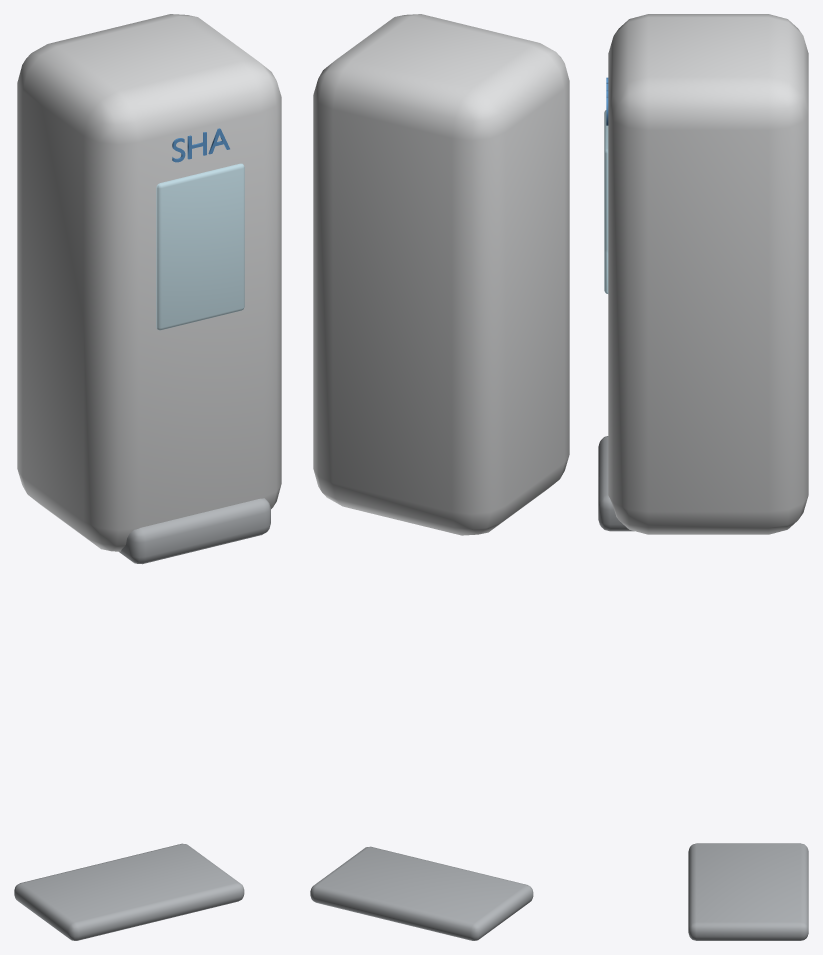
File: distributeur_sha.glb
3 views of the same model, side by side, from view 1: azimuth 30°, elevation 25°; view 2: azimuth 150°, elevation 25°; view 3: azimuth 270°, elevation 25° (orthographic). The views are drawn at different scales.
Parts seen in each view (by area): view 1: distributeur_sha; view 2: distributeur_sha; view 3: distributeur_sha.
Part boxes in pixels (x1=…): distributeur_sha: x1=14, y1=14, x2=281, y2=940; distributeur_sha: x1=310, y1=14, x2=569, y2=940; distributeur_sha: x1=598, y1=14, x2=808, y2=940.
Size of the model in its own units: 0.11 by 0.47 by 0.105.
